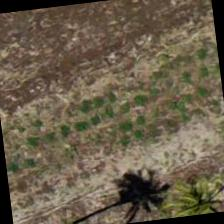Kelapa_Sawit: (147, 153, 223, 220)
